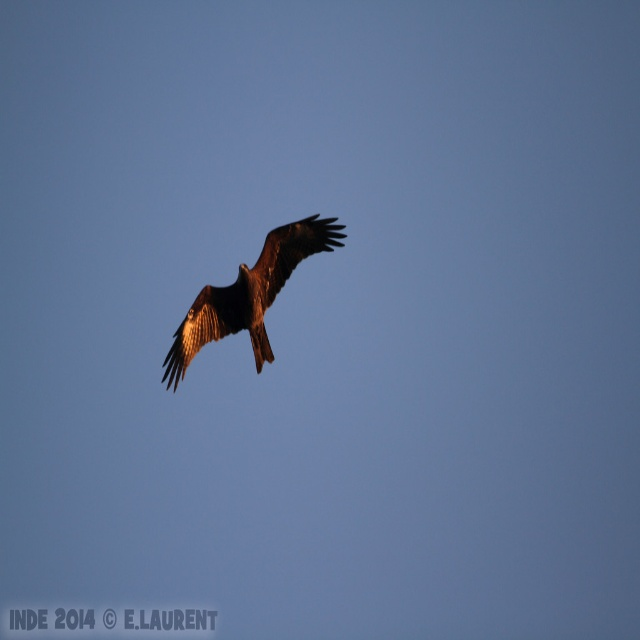Eagle: (168, 204, 357, 409)
